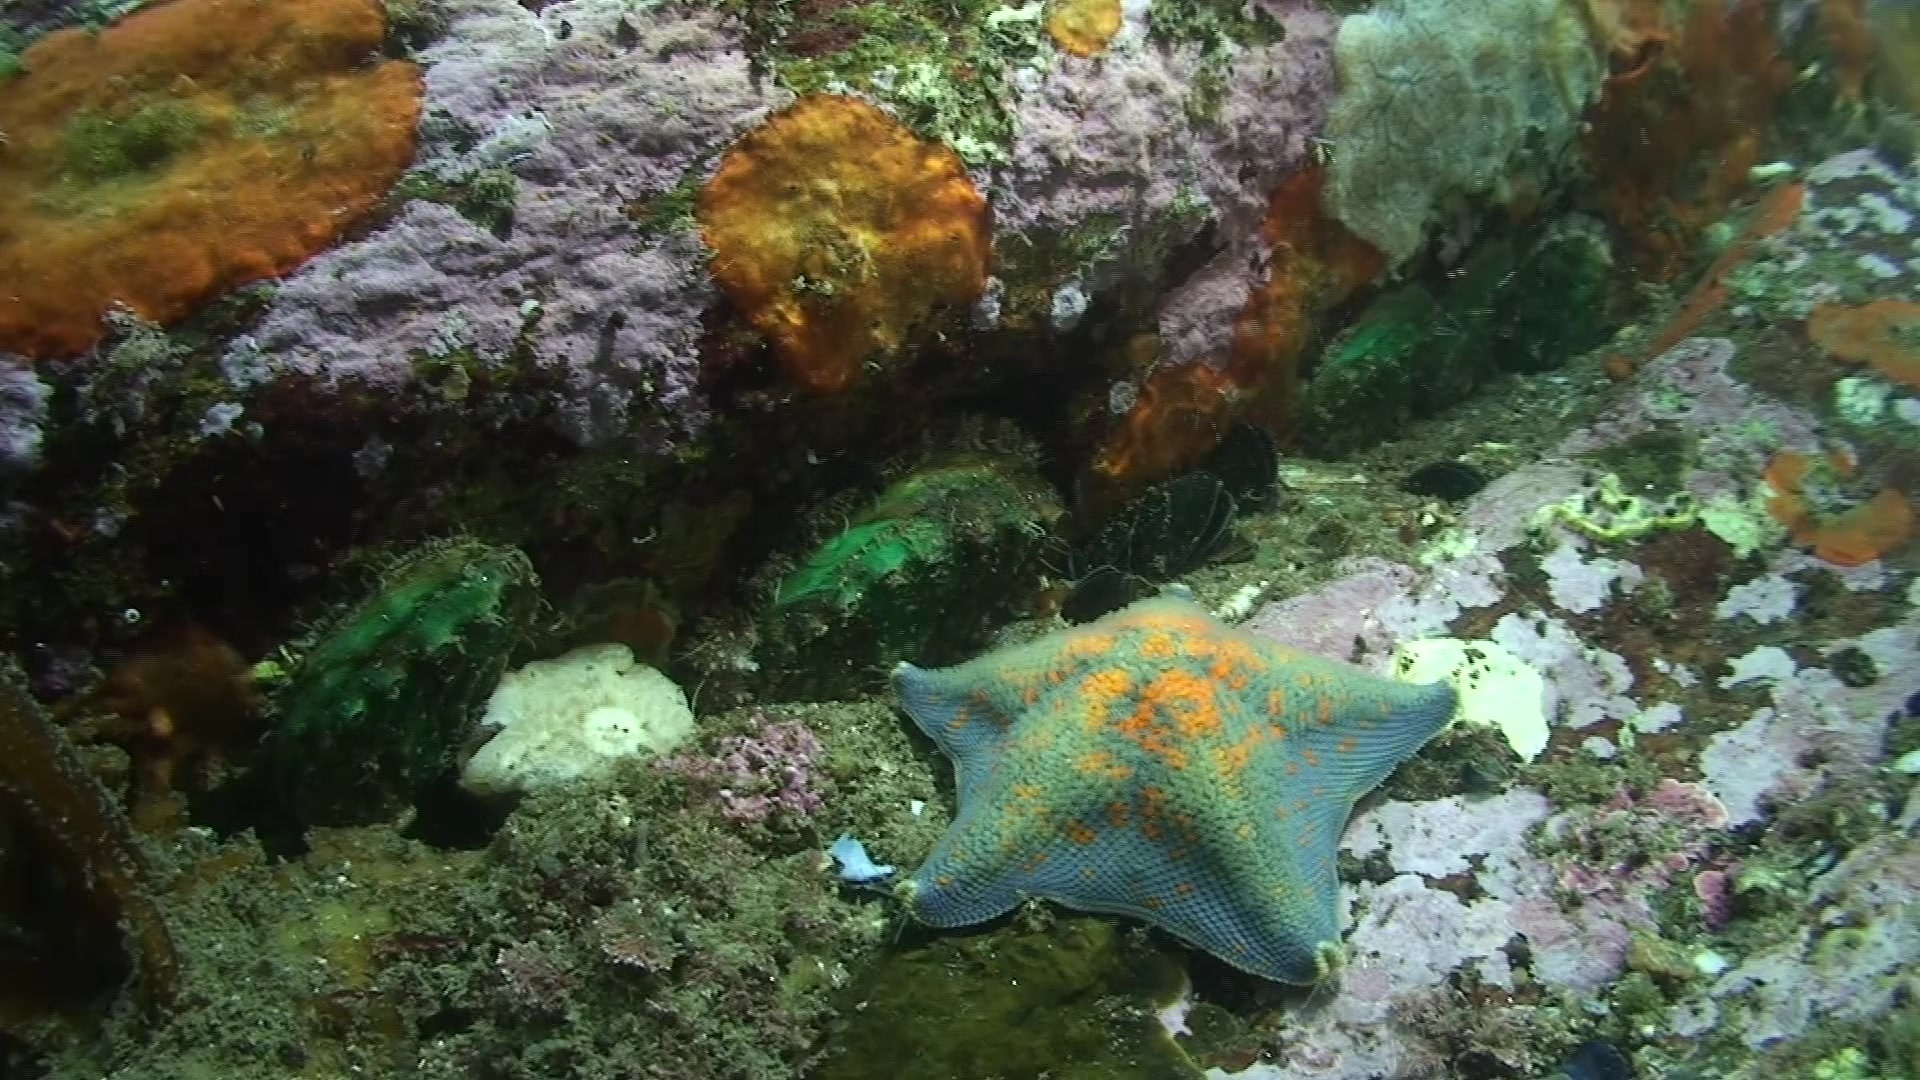starfish: (877, 599, 1469, 978)
